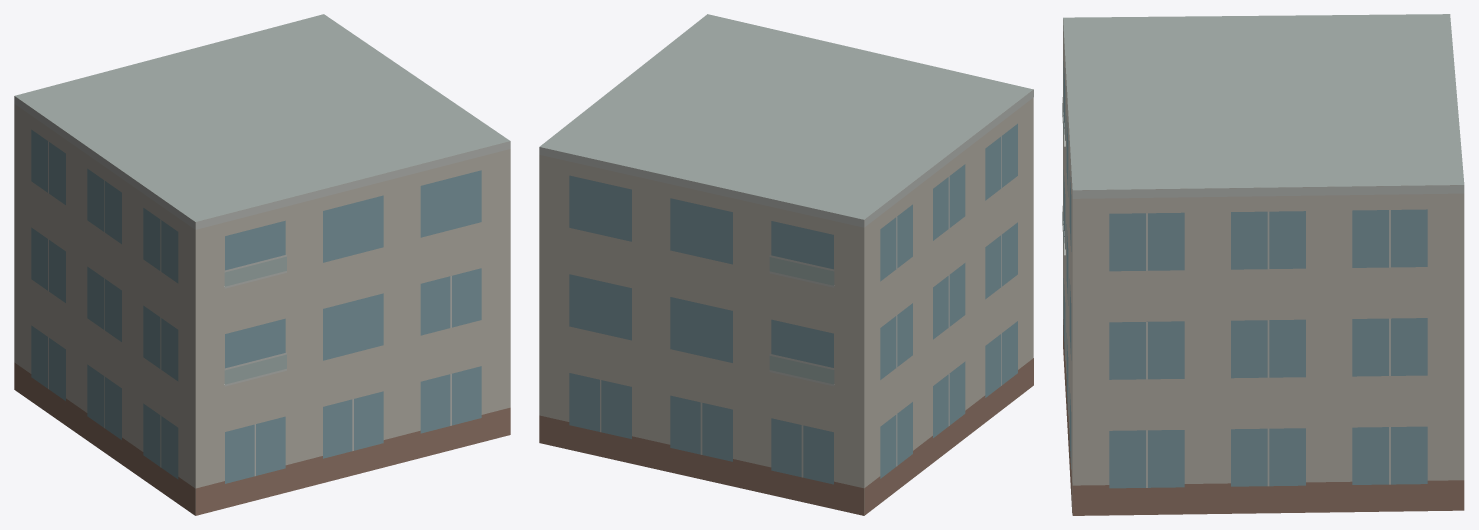
File: survey-upis-32576912.glb
3 renders of one model, left to right at view 1: azimuth 30°, elevation 25°; view 2: azimuth 150°, elevation 25°; view 3: azimuth 270°, elevation 25°, orthographic. The views are drawn at different scales.
Visible parts, largest first — view 1: survey-upis-32576912.tmp; view 2: survey-upis-32576912.tmp; view 3: survey-upis-32576912.tmp.
Part boxes in pixels (x1,y1,x2,y2): survey-upis-32576912.tmp: (14,14,510,515); survey-upis-32576912.tmp: (539,14,1033,515); survey-upis-32576912.tmp: (1062,14,1464,515).
Bounding box in the file's own units: 10.63 × 9.15 × 10.25.
